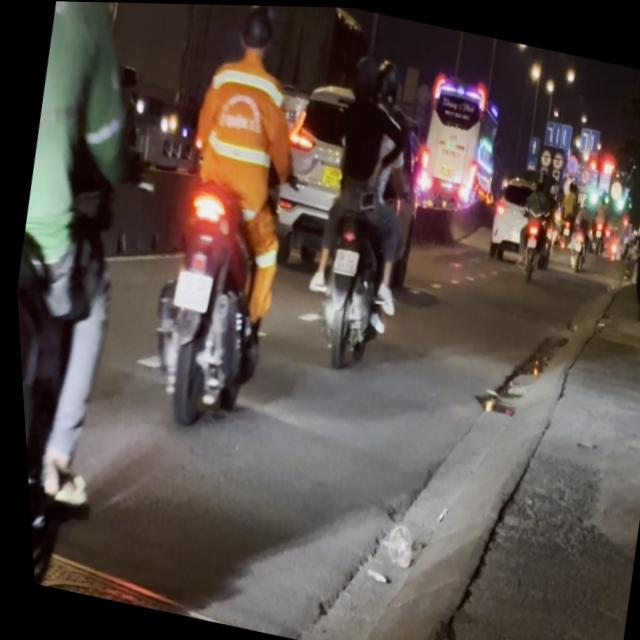helmet: (232, 4, 281, 64), (345, 49, 385, 104), (370, 54, 404, 104)
licenseplate: (0, 0, 192, 588), (120, 2, 335, 437), (279, 40, 445, 375)
nohelmet: (166, 268, 211, 312), (328, 247, 358, 277)
